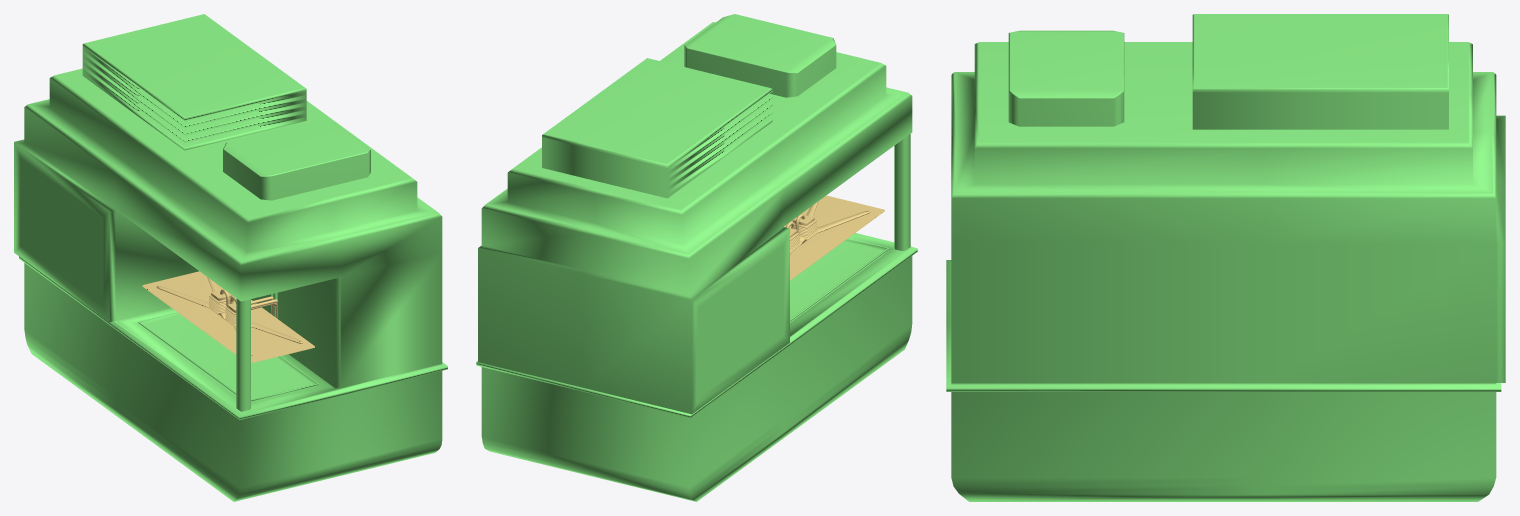
Rendered from SM_3DPrinterrrrr.fbx.
The picture shows the model from 3 angles, left to right: view 1: azimuth 30°, elevation 25°; view 2: azimuth 150°, elevation 25°; view 3: azimuth 270°, elevation 25°; orthographic projection. The views are drawn at different scales.
Visible parts, largest first — view 1: SK_3DPRinter; view 2: SK_3DPRinter; view 3: SK_3DPRinter.
Part boxes in pixels (<box>): SK_3DPRinter: <box>14,14,447,501</box>; SK_3DPRinter: <box>476,14,917,501</box>; SK_3DPRinter: <box>946,14,1505,501</box>.
Size of the model in its own units: 171 by 240 by 312.
